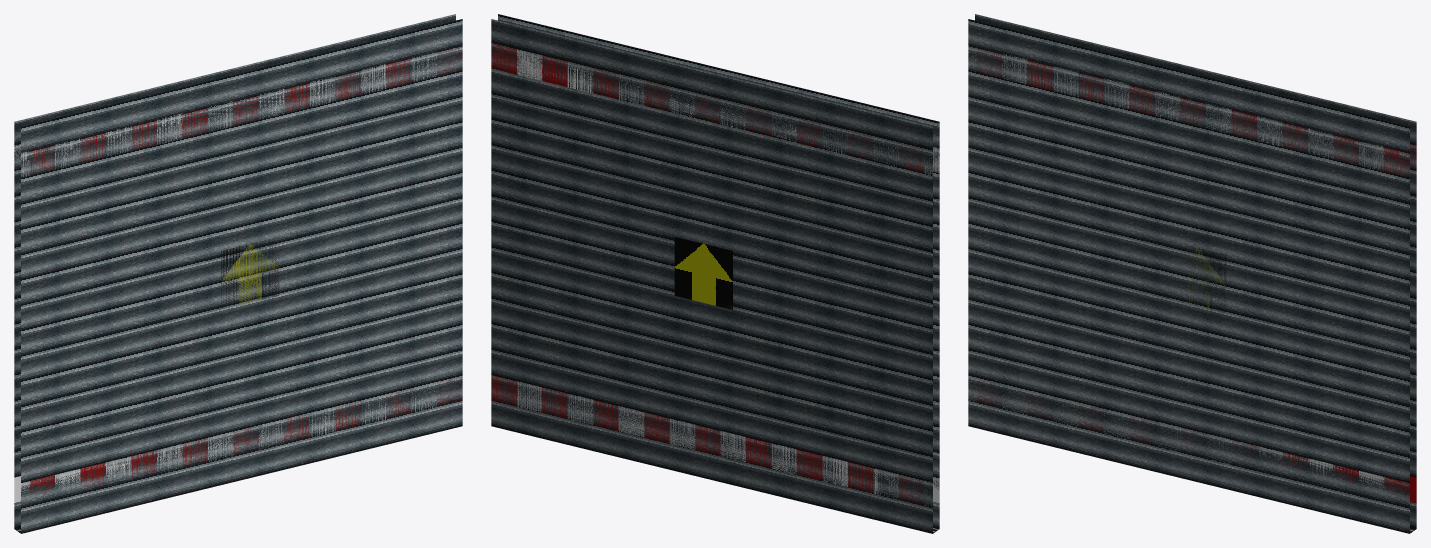
Rendered from primary_109.glb.
3 renders of one model, left to right at view 1: azimuth 30°, elevation 25°; view 2: azimuth 150°, elevation 25°; view 3: azimuth 330°, elevation 25°, orthographic.
Parts seen in each view (by area): view 1: Object; view 2: Object; view 3: Object.
Part boxes in pixels (x1,y1,x2,y2): Object: [14, 14, 462, 533]; Object: [491, 14, 939, 533]; Object: [968, 14, 1416, 533].
Bounding box in the file's own units: 3.93 × 3.47 × 0.1035.
6 materials, 6 textured.
